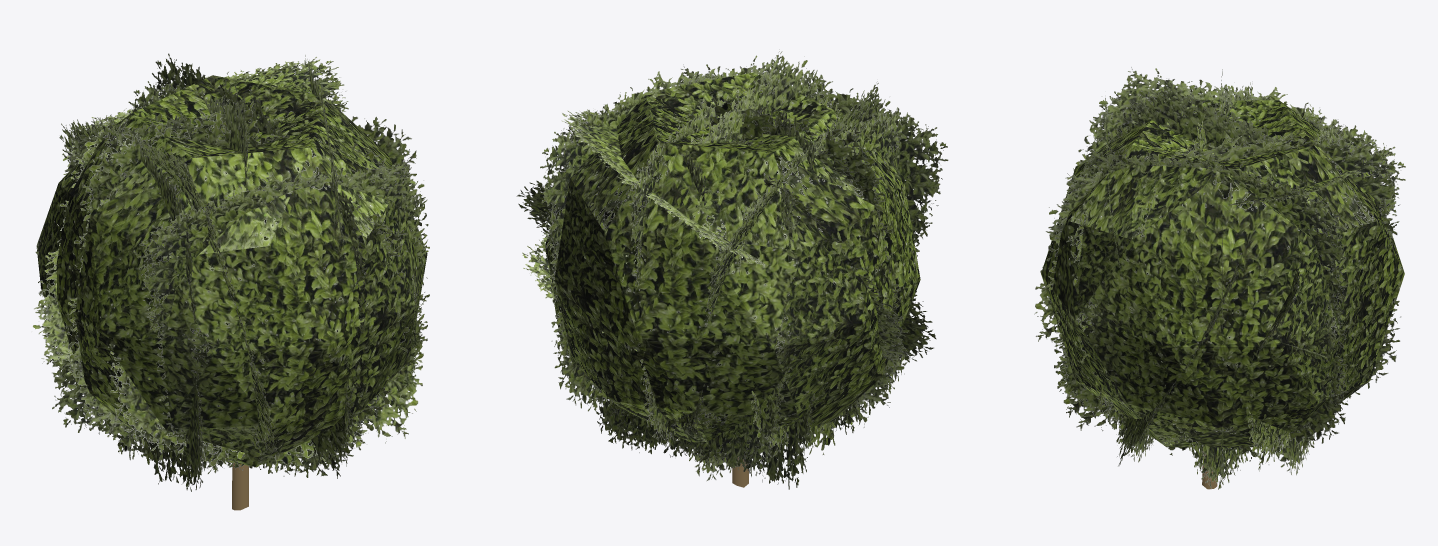
The model's file is bush 2.fbx.
The picture shows the model from 3 angles, left to right: view 1: azimuth 30°, elevation 25°; view 2: azimuth 150°, elevation 25°; view 3: azimuth 270°, elevation 25°; orthographic projection. The views are drawn at different scales.
Visible parts, largest first — view 1: Boxwood1; view 2: Boxwood1; view 3: Boxwood1.
Part boxes in pixels (<box>): Boxwood1: <box>32,53,429,510</box>; Boxwood1: <box>516,49,948,489</box>; Boxwood1: <box>1034,67,1405,489</box>.
Size of the model in its own units: 641 by 669 by 577.
